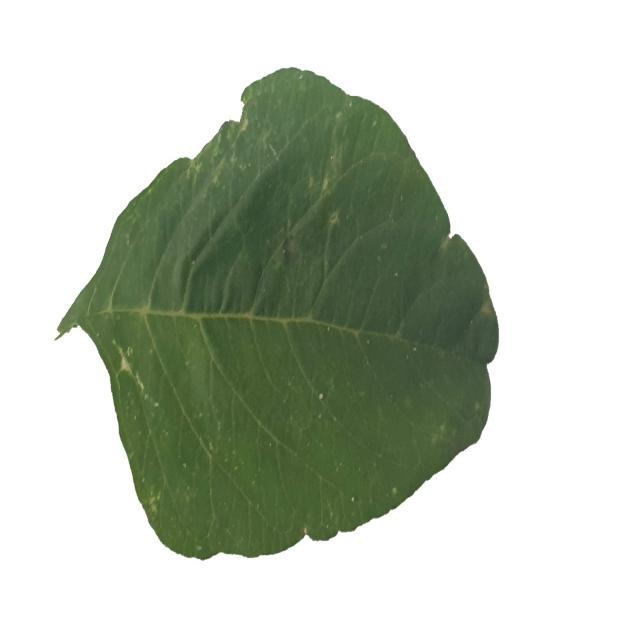Medicinal-Arive Dantu: (58, 60, 499, 566)
